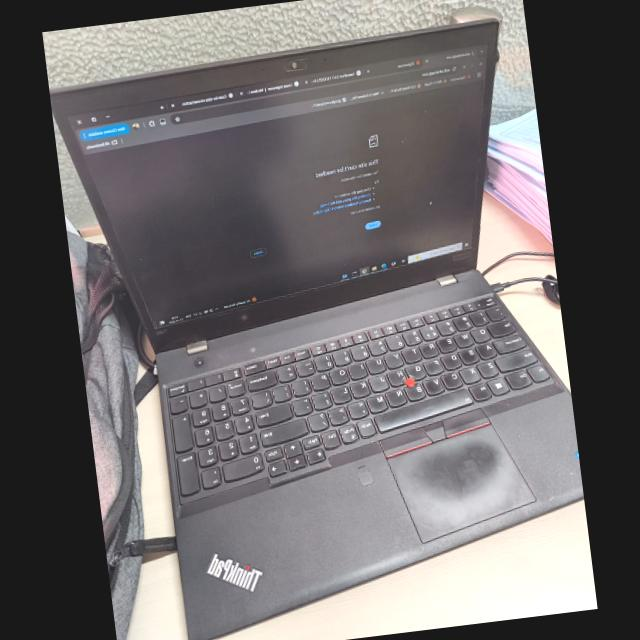laptop: (45, 1, 597, 640)
